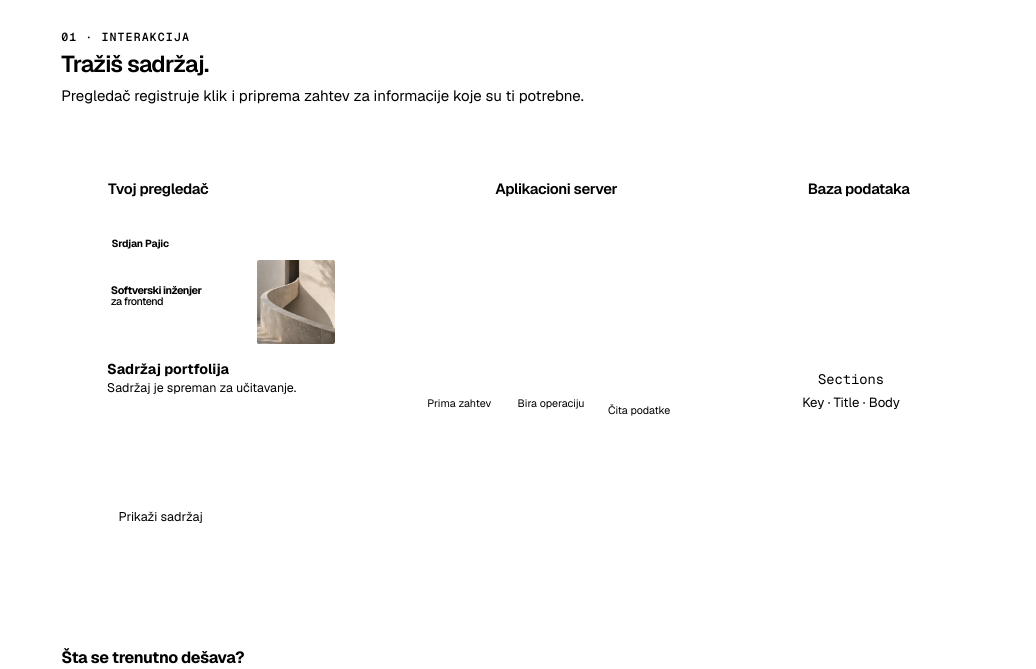
Test: localizes known result titles and keeps custom content and the response excerpt in their original form
The width and height of the screenshot is (1036, 669).
Earlier steps of the test are not shown.
(page scrolled)
Click the button "Prikaži sadržaj": (161, 516) [107,494,214,538]
(page scrolled)
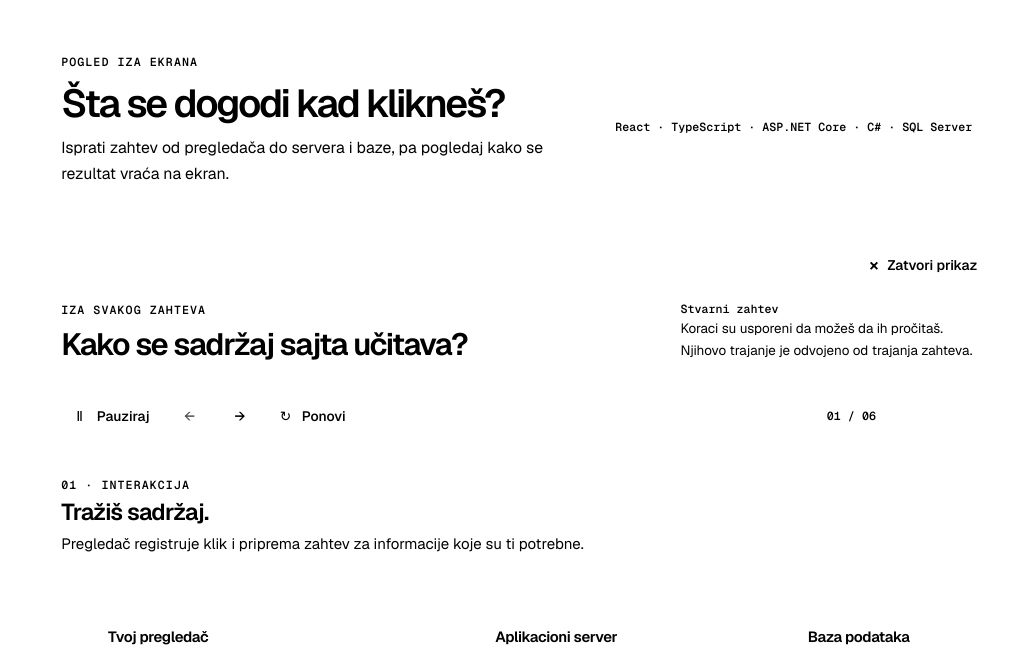
Click the button named "Sledeći korak": (240, 416) [218,394,262,438]
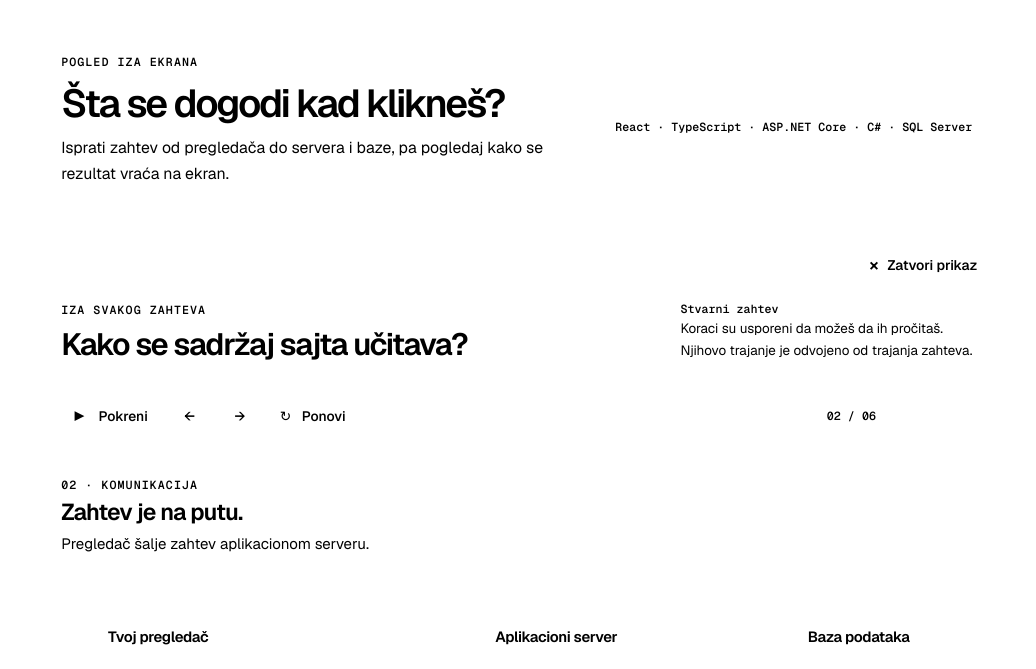
Click the button named "Sledeći korak": (240, 416) [218,394,262,438]
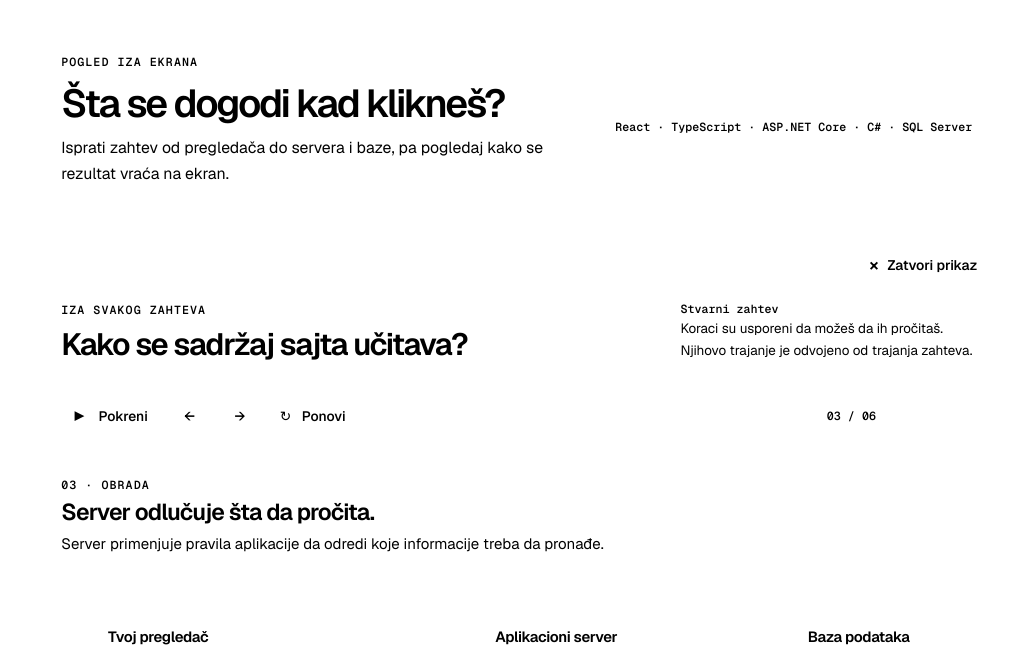
Click the button named "Sledeći korak": (240, 416) [218,394,262,438]
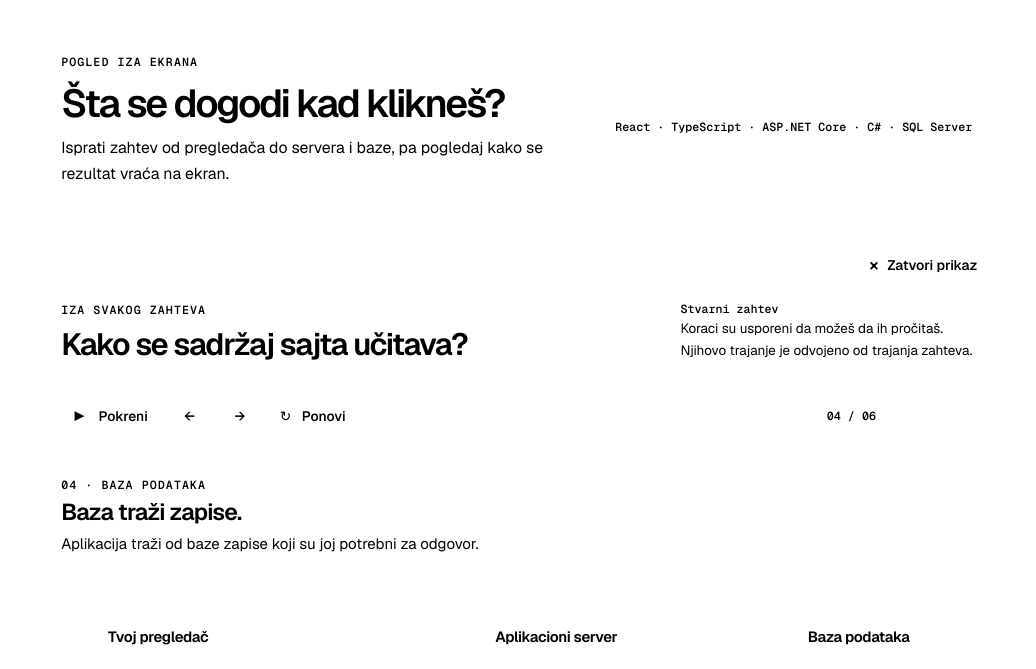
Click the button named "Sledeći korak": (240, 416) [218,394,262,438]
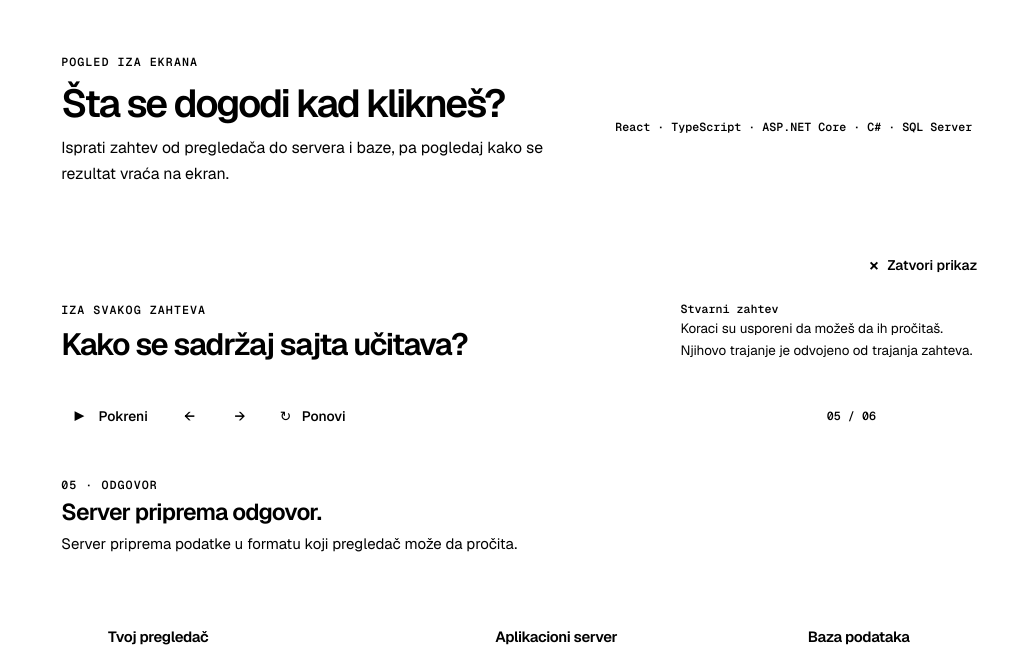
Click the button named "Sledeći korak": (240, 416) [218,394,262,438]
(page scrolled)
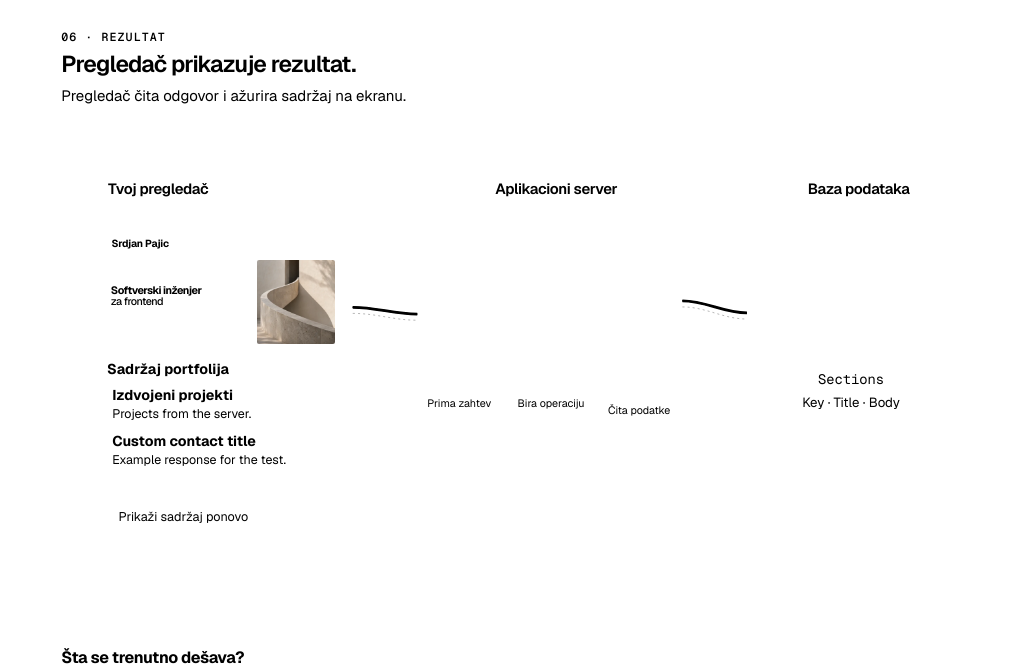
Now the text "Izdvojeni projekti" is shown, box [112,386,233,404]
Now the text "Custom contact title" is shown, box [112,432,256,450]
Now the text "Example response for the test." is shown, box [112,452,286,468]
